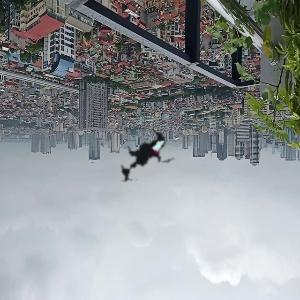drone: (100, 114, 196, 210)
